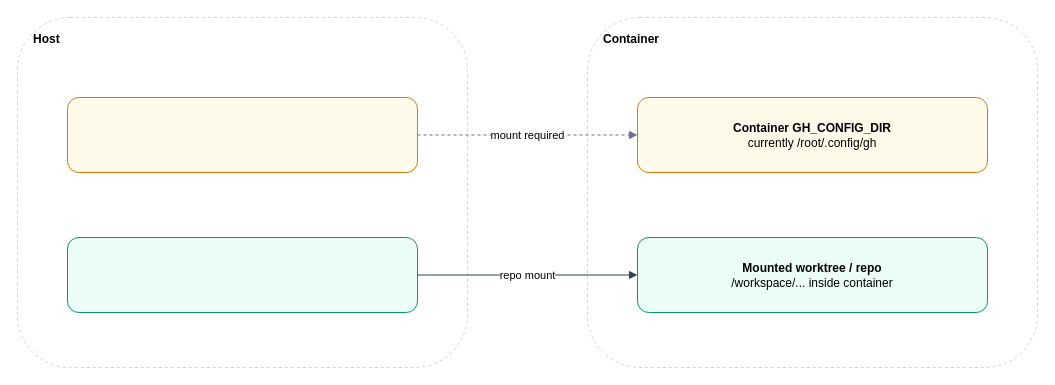
This 1055x385 diagram has some shape labels left out. The shapes that lost their labels are listed below. From the top down, each one's centre as x and y in pixels, then its label:
pixel 242 134: Host hub gh auth /Users/jihoonkim/.hermes/profiles/hub/gh
pixel 242 274: Host project path personal/shaul-hub/hermes-agent-local-docs
